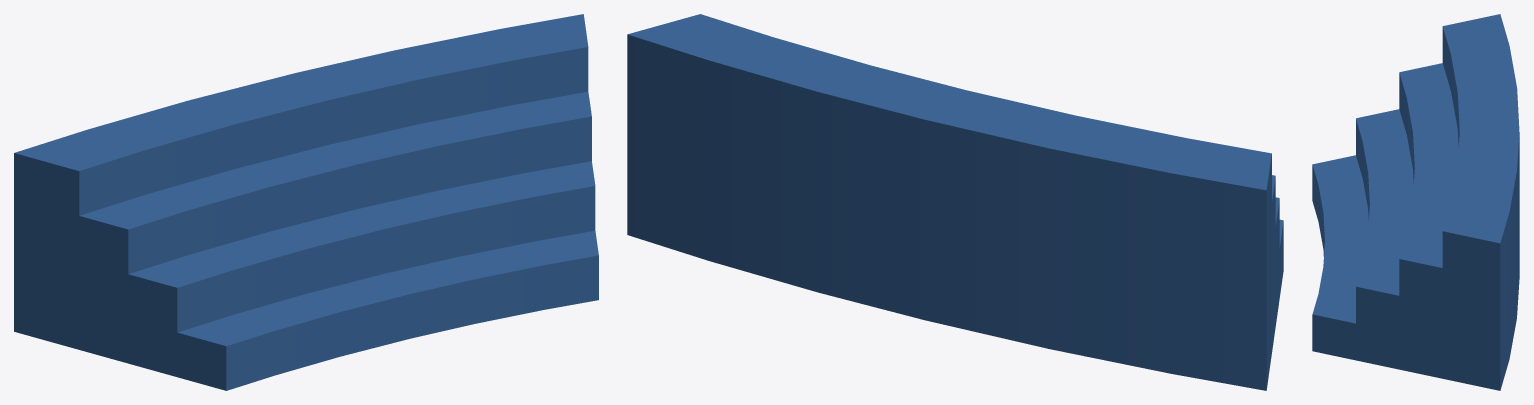
The model's file is StairsSwordFish_Model_Zone6.fbx.
The picture shows the model from 3 angles, left to right: view 1: azimuth 30°, elevation 25°; view 2: azimuth 150°, elevation 25°; view 3: azimuth 270°, elevation 25°; orthographic projection. The views are drawn at different scales.
Parts seen in each view (by area): view 1: Escaleras; view 2: Escaleras; view 3: Escaleras.
Boxes of the visible parts, x1=… form: Escaleras: x1=14, y1=14, x2=598, y2=390; Escaleras: x1=627, y1=14, x2=1283, y2=390; Escaleras: x1=1312, y1=14, x2=1519, y2=390.
Size of the model in its own units: 165 by 49.41 by 62.84.
